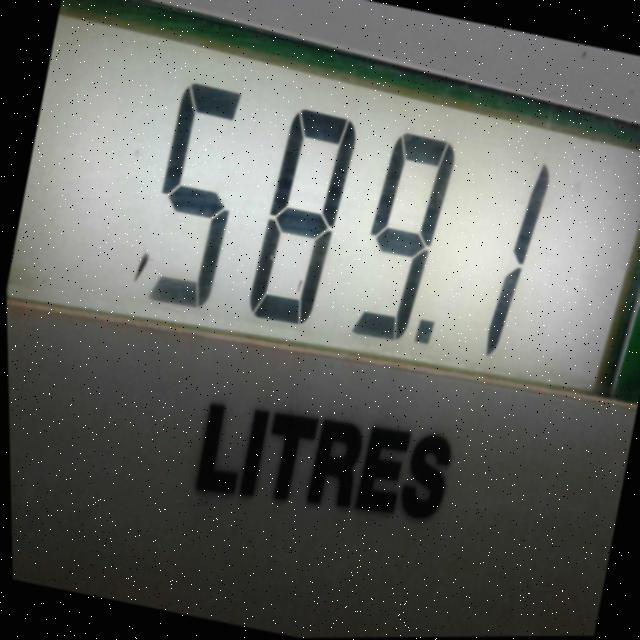.: (401, 317, 442, 373)
1: (479, 158, 568, 369)
5: (135, 82, 256, 313)
8: (242, 106, 359, 337)
9: (349, 130, 456, 344)
